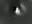person: (20, 2, 28, 17), (16, 8, 21, 17)
